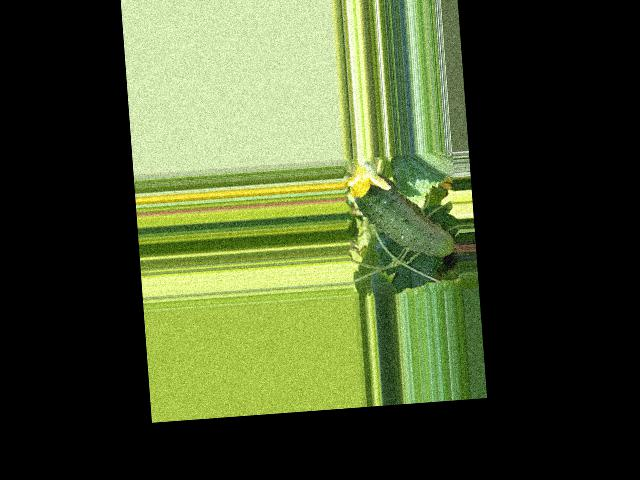cucumber: (353, 168, 461, 263)
